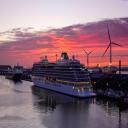cruises: (31, 52, 98, 102)
